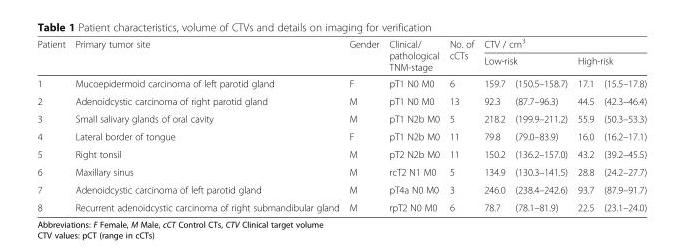table: (36, 36, 646, 212)
table column: (69, 36, 343, 212), (509, 36, 572, 212), (383, 36, 443, 212), (598, 36, 646, 212), (343, 36, 383, 212), (443, 36, 478, 212), (36, 36, 69, 212), (478, 36, 509, 212), (572, 36, 598, 212)
table column header: (36, 36, 646, 92)
table row: (36, 52, 646, 74), (36, 74, 646, 92), (36, 109, 646, 127), (36, 127, 646, 145), (36, 162, 646, 180), (36, 180, 646, 198), (36, 92, 646, 109), (36, 145, 646, 162), (36, 36, 646, 52), (36, 198, 646, 212)
table spanning cell: (69, 36, 343, 92), (383, 36, 443, 92), (478, 36, 646, 52), (343, 36, 383, 92), (478, 52, 572, 74), (443, 36, 478, 92), (36, 36, 69, 92), (572, 52, 646, 74)
